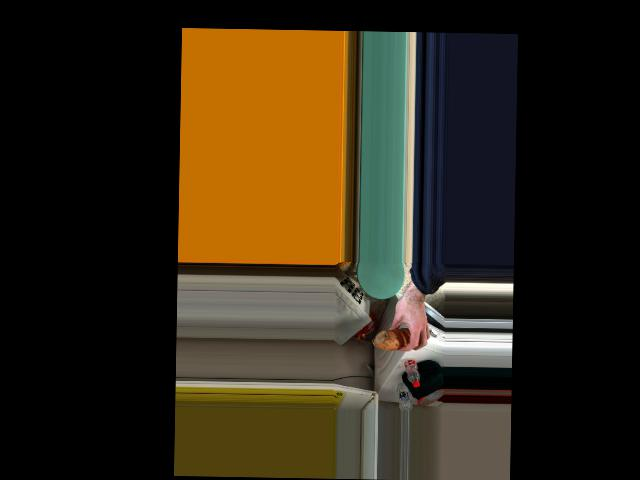sweet_potato: (383, 317, 420, 347)
